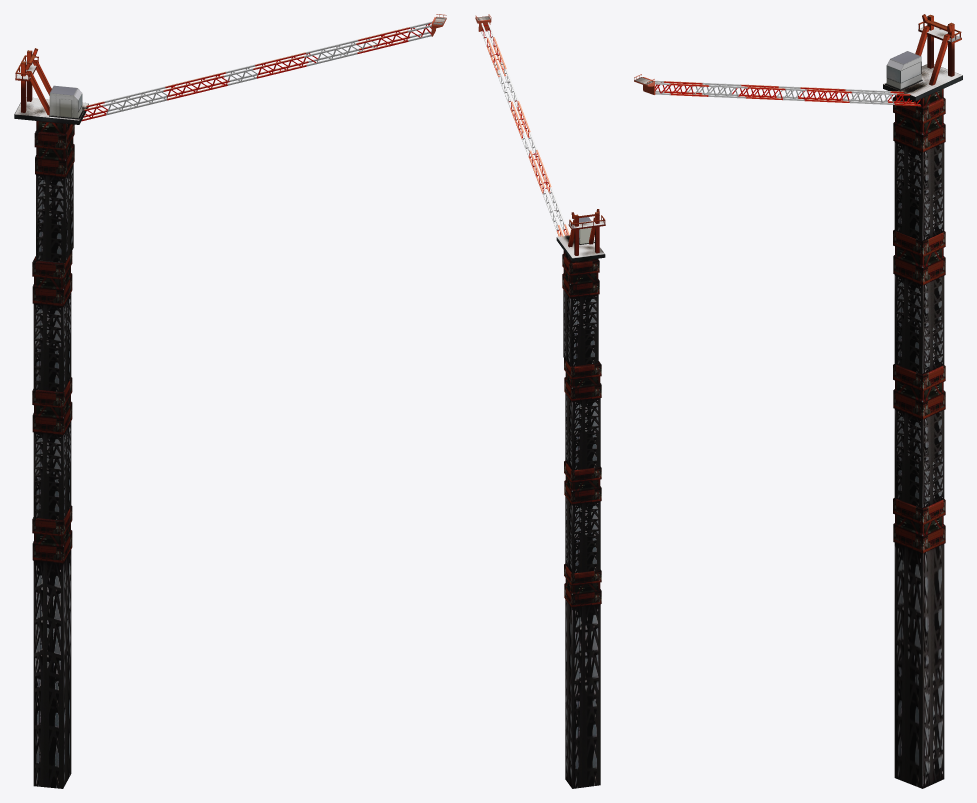
The model's file is kure-n2.obj.
3 views of the same model, side by side, from view 1: azimuth 30°, elevation 25°; view 2: azimuth 150°, elevation 25°; view 3: azimuth 270°, elevation 25° (orthographic). The views are drawn at different scales.
Size of the model in its own units: 61.53 by 158 by 56.51.
3 materials, 3 textured.
